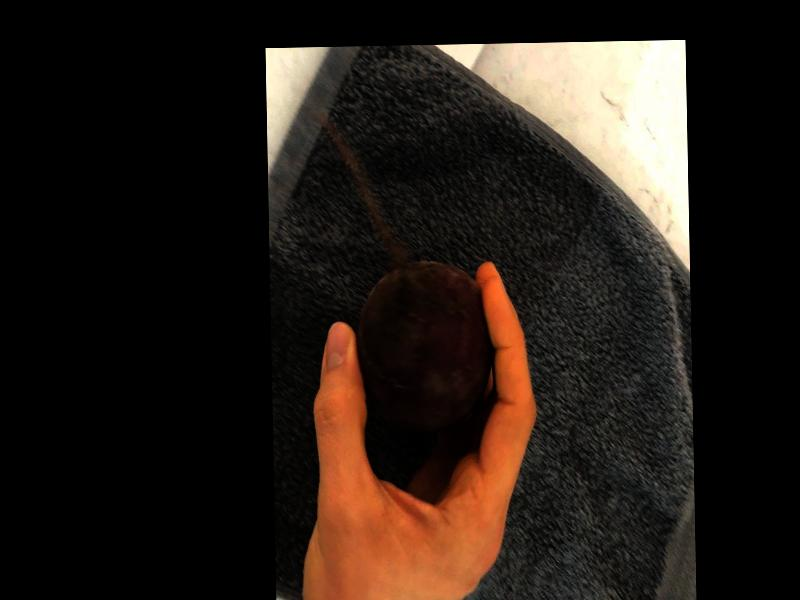Beet: (355, 261, 493, 435)
